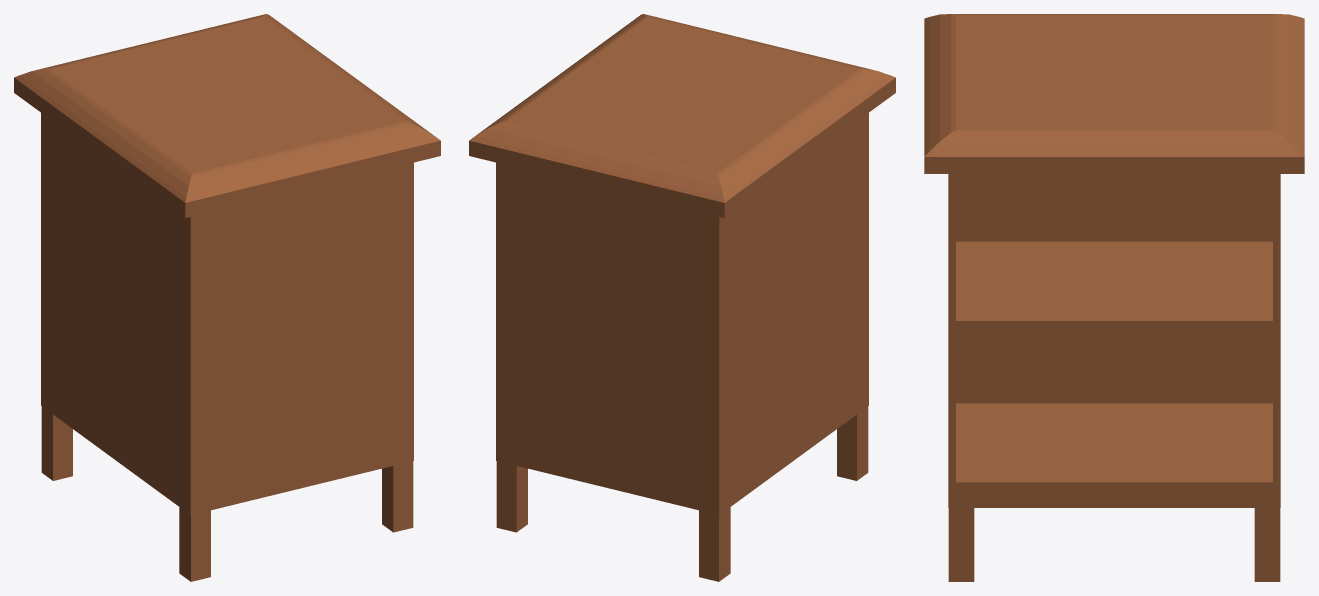
The model's file is komodina.fbx.
3 renders of one model, left to right at view 1: azimuth 30°, elevation 25°; view 2: azimuth 150°, elevation 25°; view 3: azimuth 270°, elevation 25°, orthographic. The views are drawn at different scales.
Visible parts, largest first — view 1: Cube; view 2: Cube; view 3: Cube.
Part boxes in pixels (<box>): Cube: <box>14,14,440,581</box>; Cube: <box>469,14,895,581</box>; Cube: <box>924,14,1304,581</box>.
Size of the model in its own units: 338 by 513 by 393.
